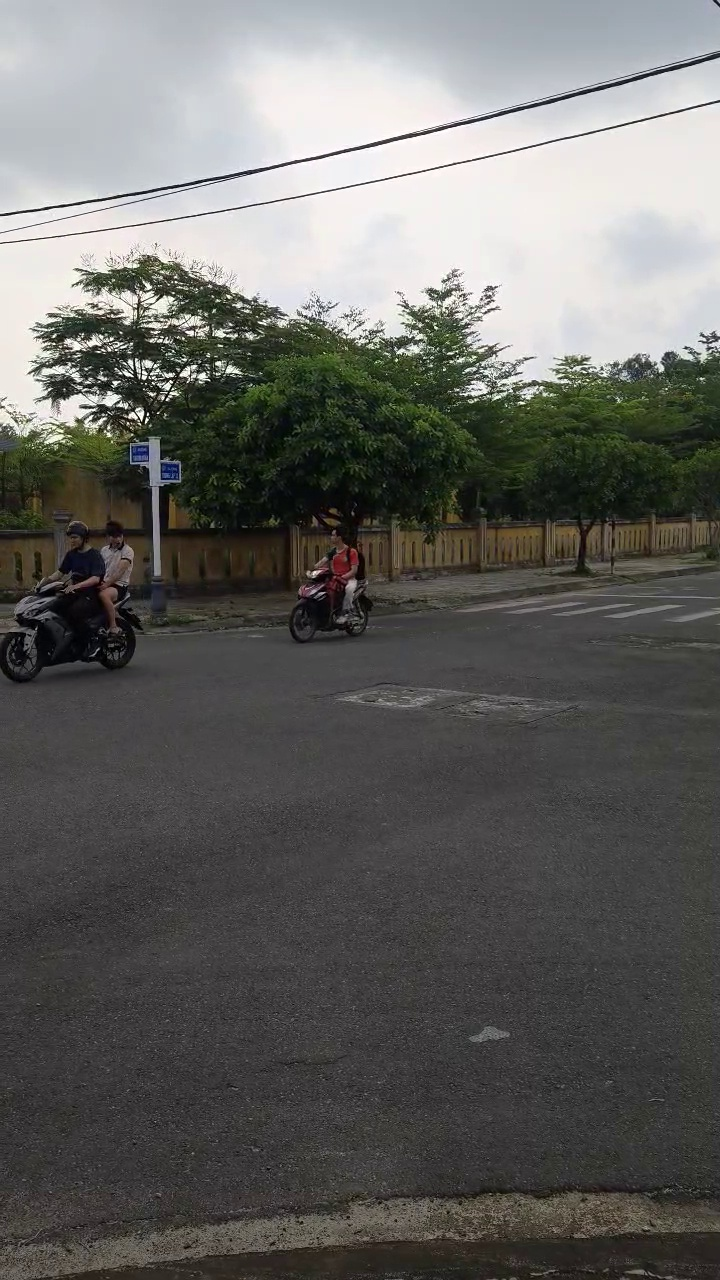helmet: (67, 521, 92, 557)
